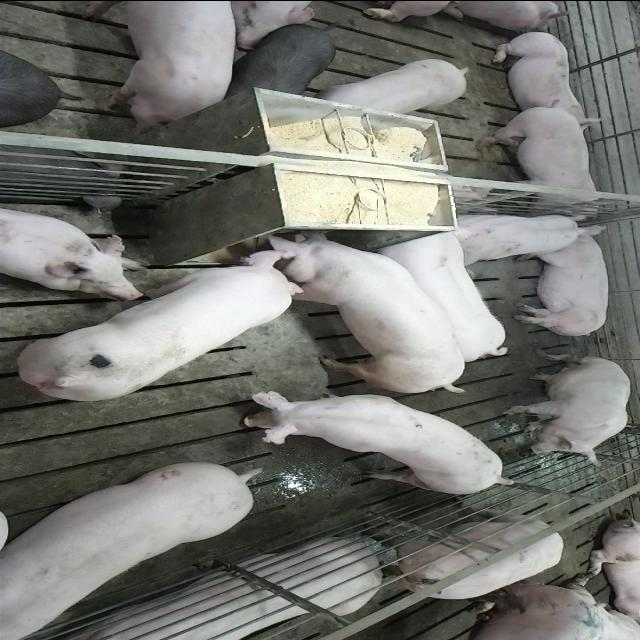Feeding: (15, 245, 308, 402), (250, 222, 468, 390)
Lateral_lying: (512, 222, 612, 338)
Sitting: (503, 354, 633, 468)
Standing: (0, 464, 258, 640), (229, 392, 512, 497), (363, 508, 564, 607), (90, 2, 244, 128), (382, 230, 514, 362), (473, 103, 610, 217), (320, 52, 474, 114), (219, 21, 337, 98)
Sternal_lying: (44, 540, 382, 640), (0, 202, 146, 296), (486, 29, 606, 119), (445, 208, 591, 263)
